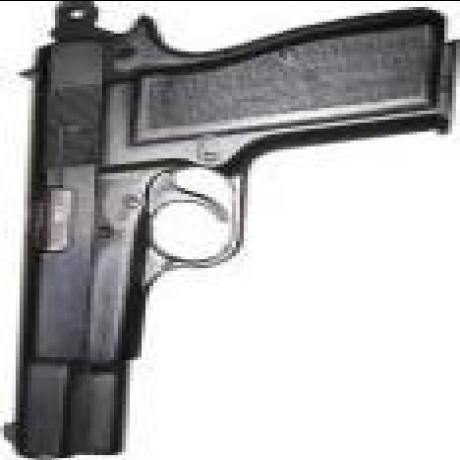weapon: (8, 9, 444, 460)
